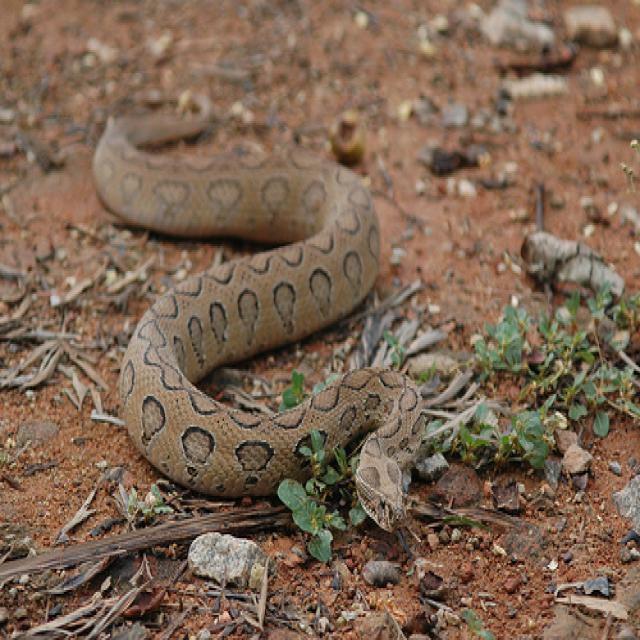Snake: (90, 90, 427, 556)
